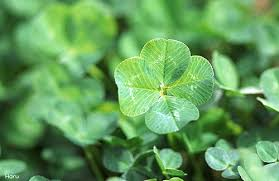4-clover: (115, 38, 214, 133)
